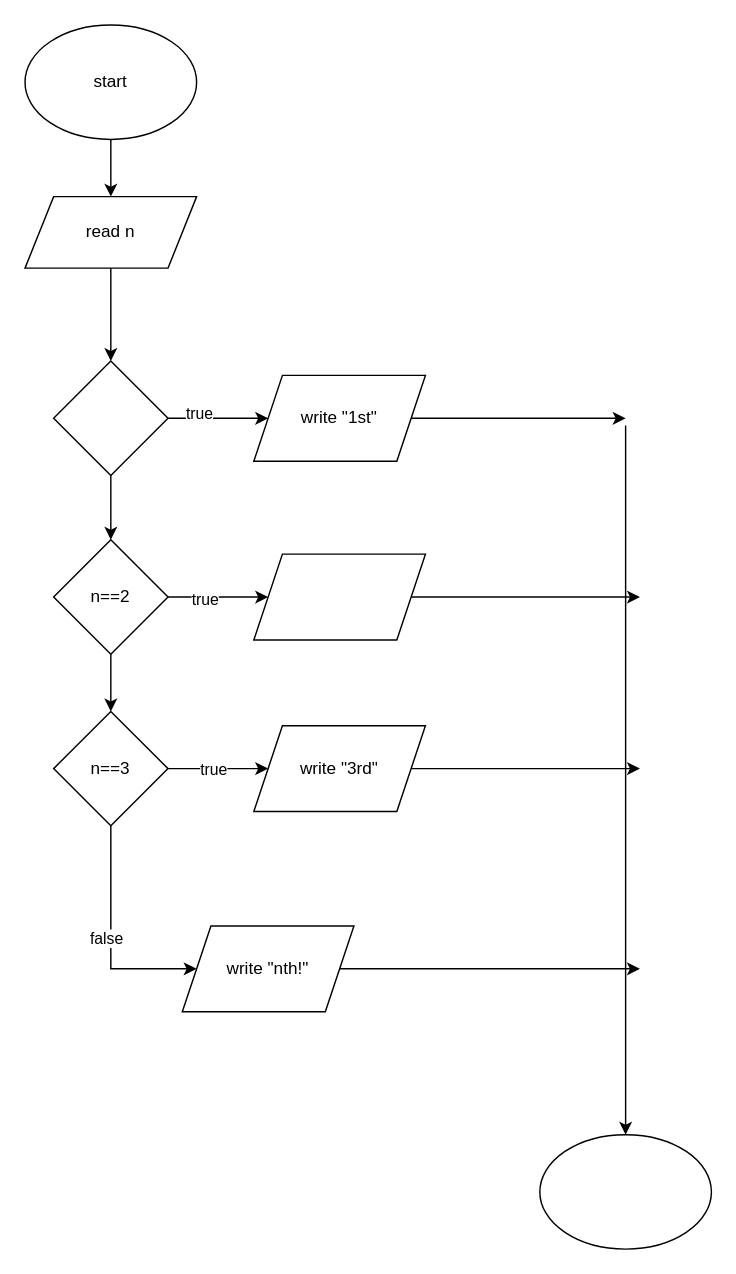
Image size: 736x1274. Some labels were removed from this diagram. The centre of each missing label's shape, as x and y in pixels:
end: (x=624, y=1191)
n==1: (x=110, y=417)
write "2nd": (x=338, y=596)
